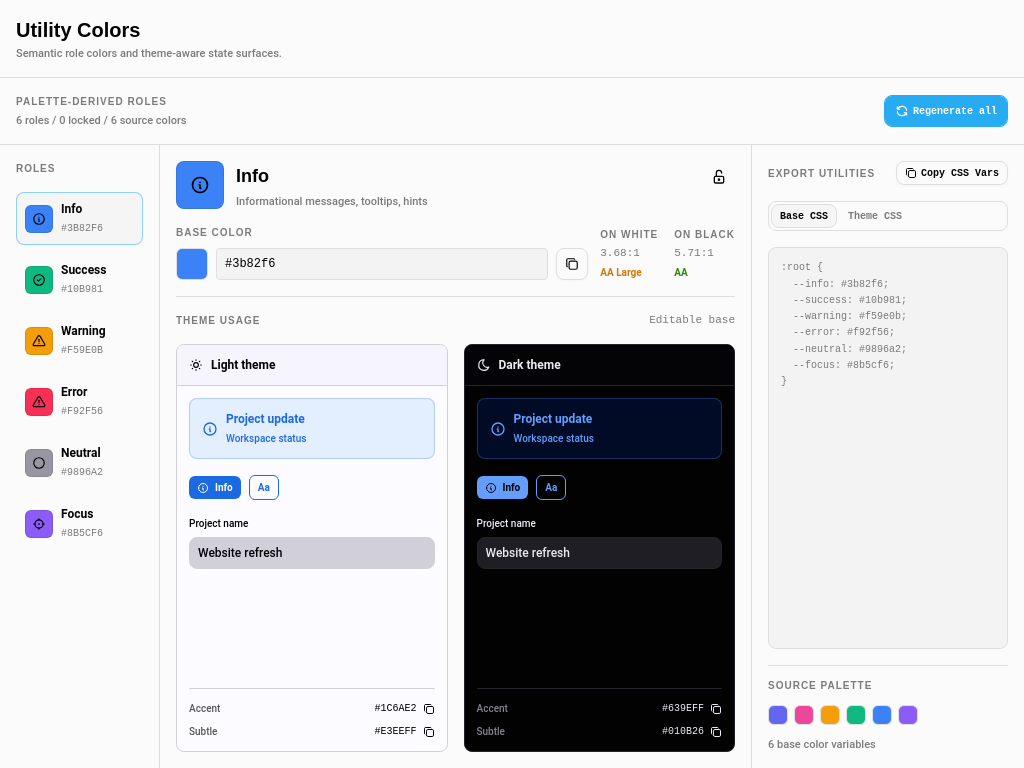
export utility workspace edits roles, rejects invalid hex and preserves locks during regeneration
Replace the text in the field named "Info base hex" with "#e63946" at (382, 264), box [216,248,548,280]
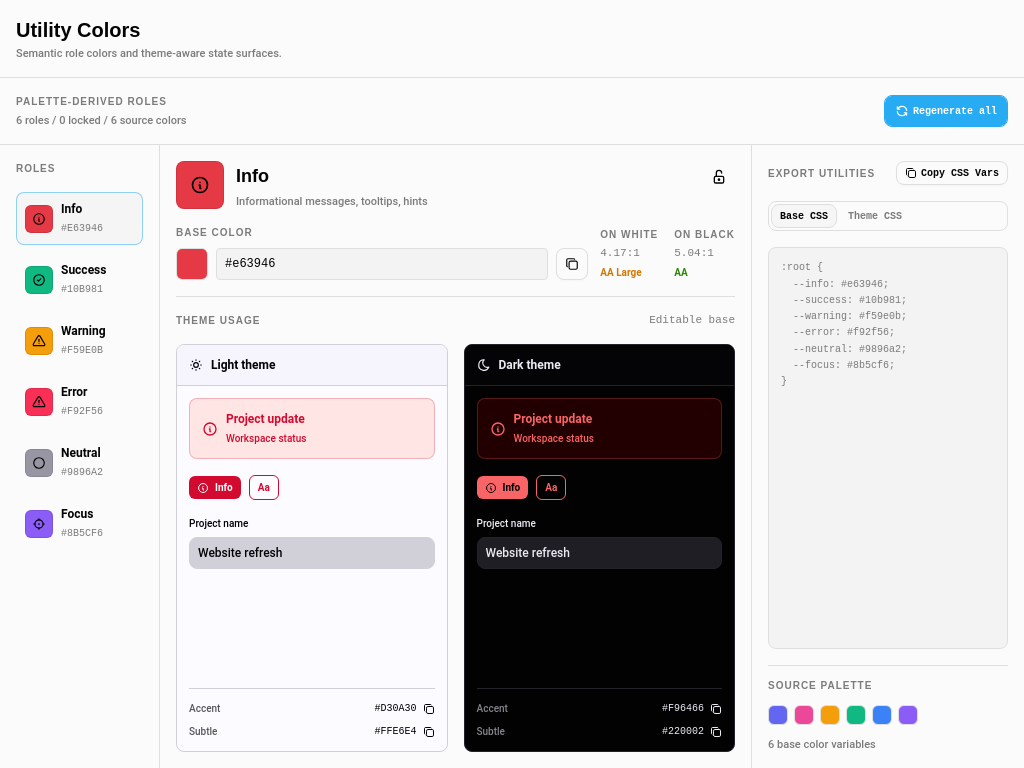
Replace the text in the field named "Info base hex" with "#zzzzzz" at (382, 264), box [216,248,548,280]
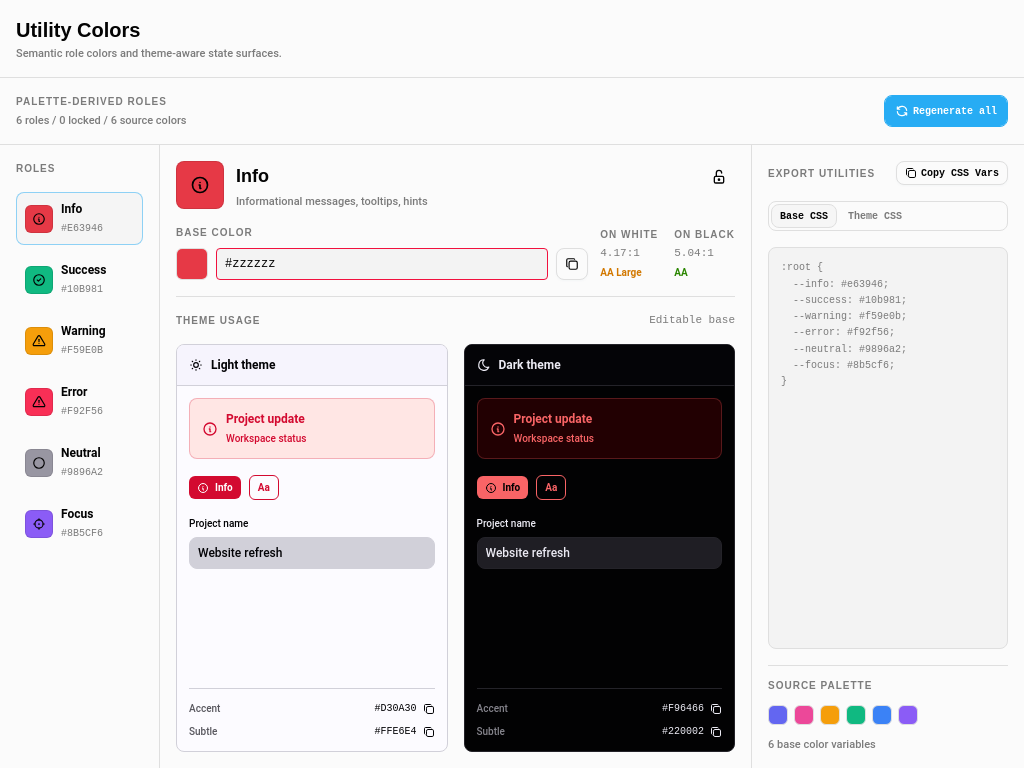
Now the field named "Info base hex" is marked as invalid
Leave the field named "Info base hex", box [216,248,548,280]
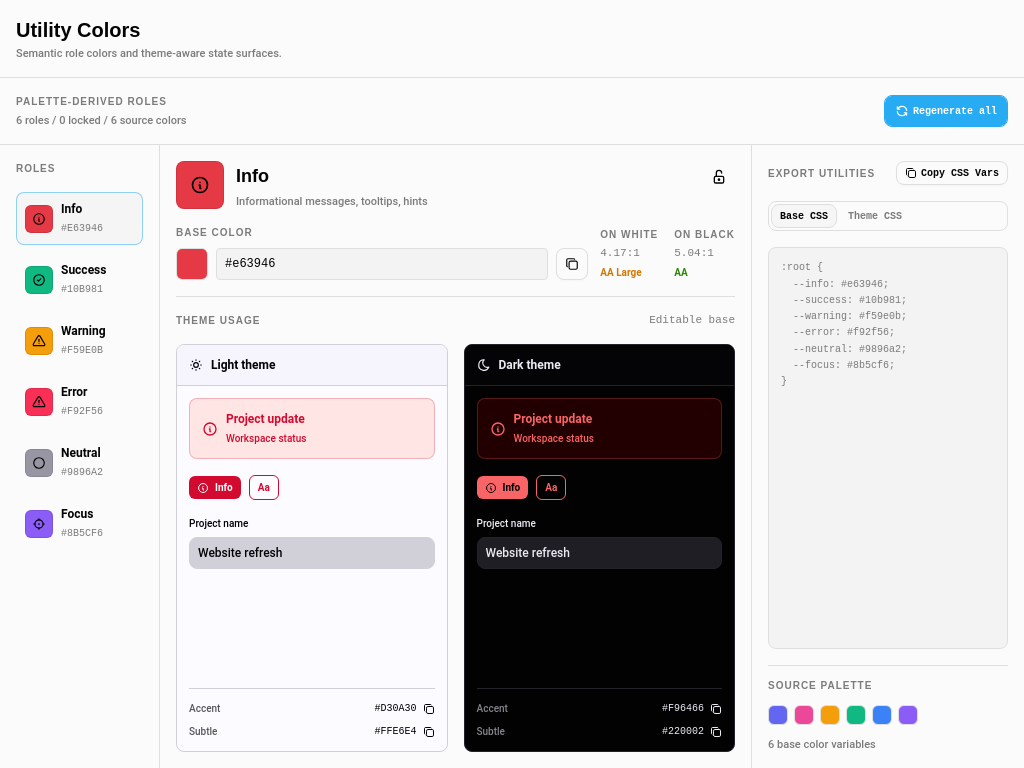
Click the button named "Lock Info" at (719, 177), box [703,161,735,193]
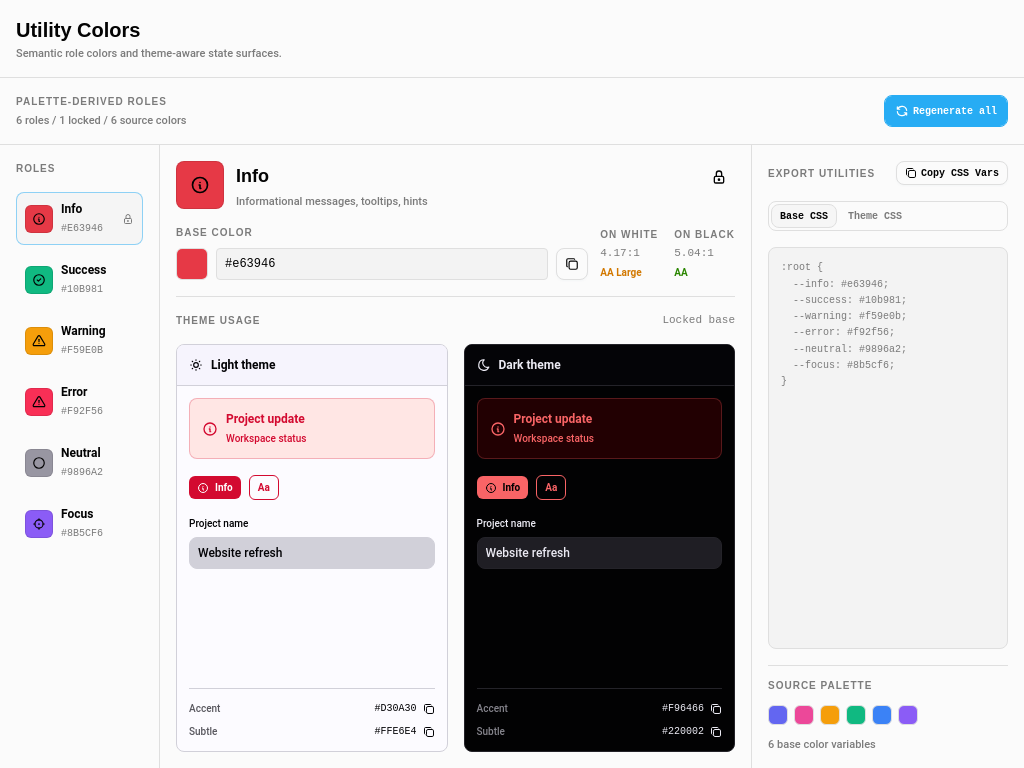
Click the button "Regenerate all" at (946, 111), box [884,95,1008,127]
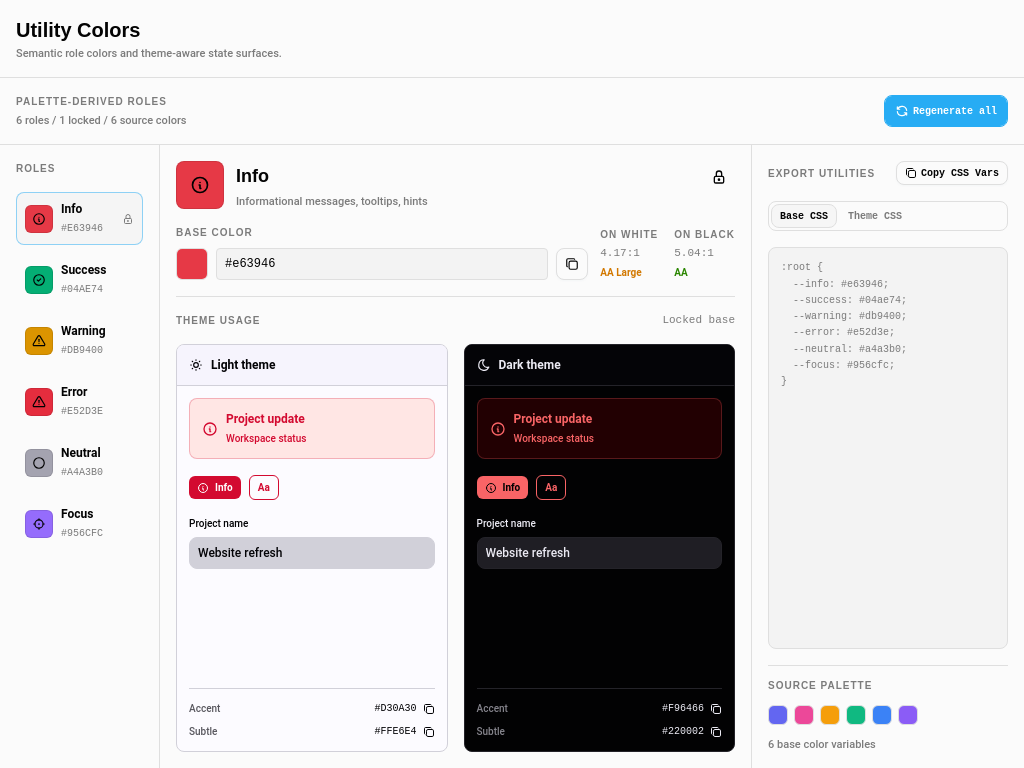
Click the button with aria-label "Select Focus" at (80, 524), box [16,497,143,550]
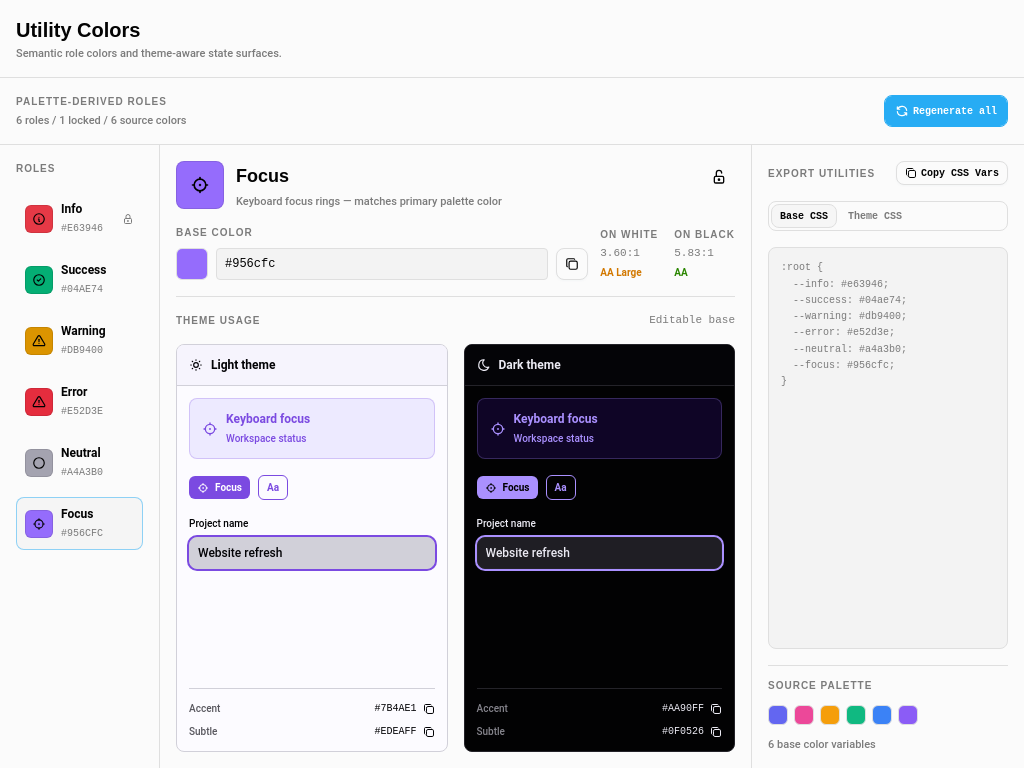
Now the field named "Focus base hex" is shown, box [216,248,548,280]
